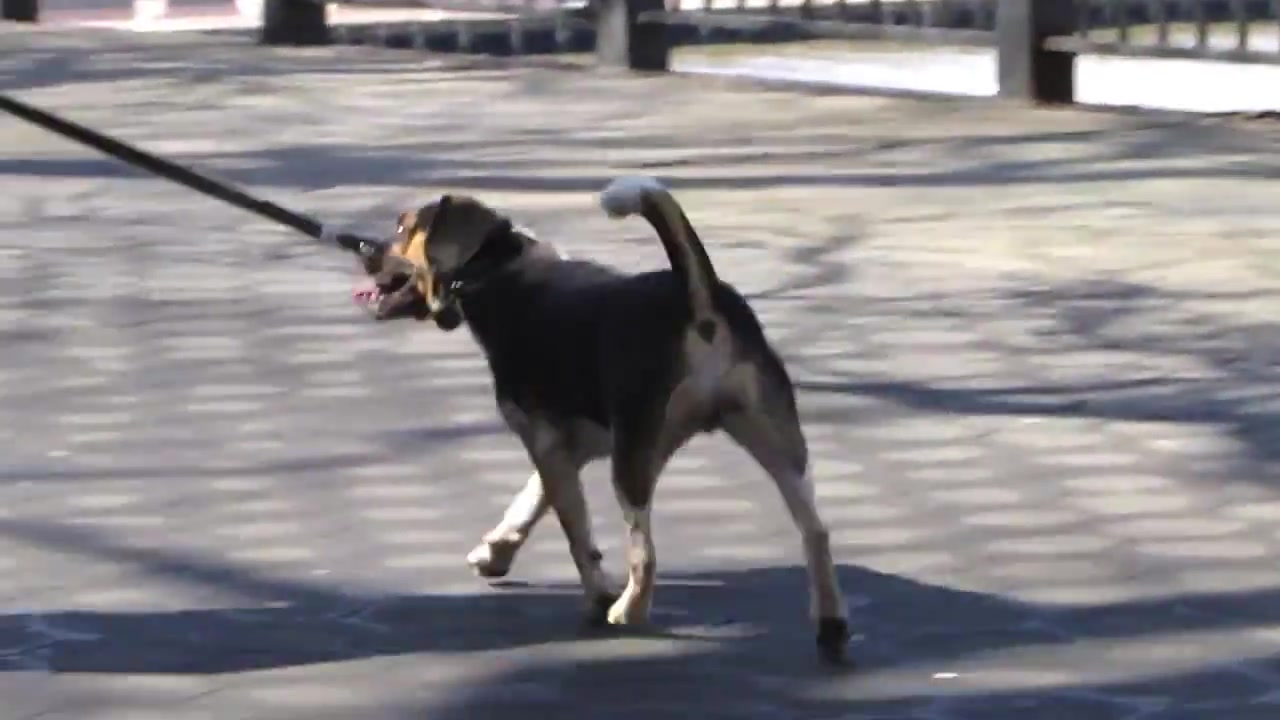dog: (355, 174, 855, 668)
